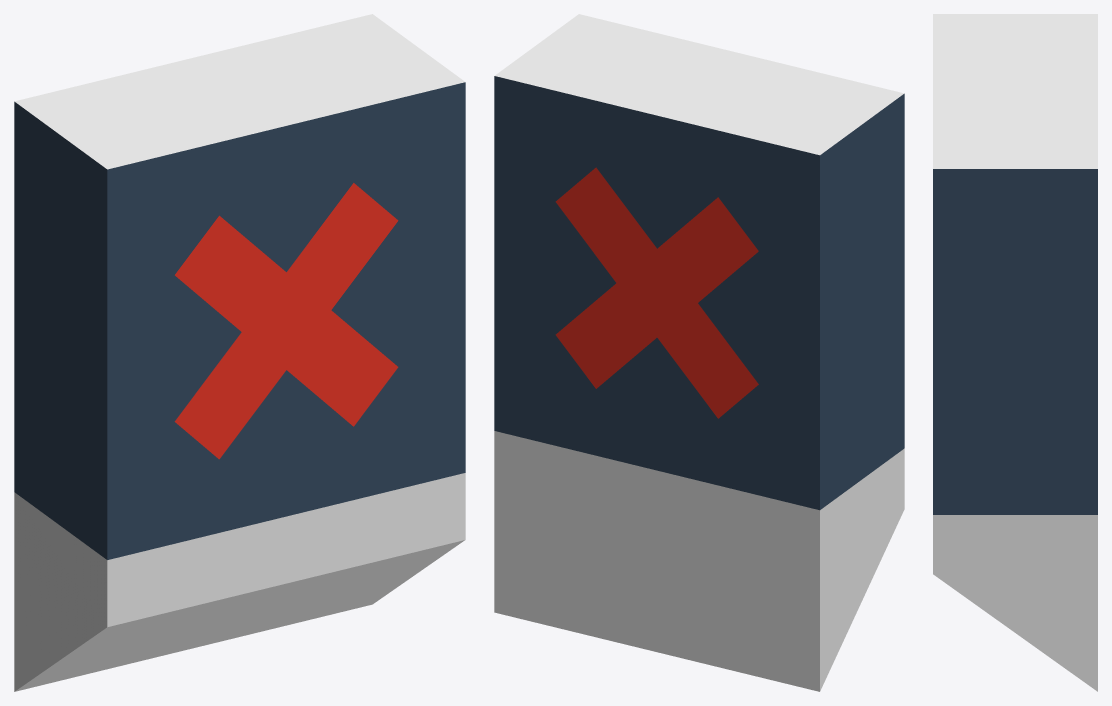
The model's file is EraserXSimple.fbx.
3 renders of one model, left to right at view 1: azimuth 30°, elevation 25°; view 2: azimuth 150°, elevation 25°; view 3: azimuth 270°, elevation 25°, orthographic. The views are drawn at different scales.
Parts seen in each view (by area): view 1: Group1; view 2: Group1; view 3: Group1.
Part boxes in pixels (x1,y1,x2,y2): Group1: (14,14,465,691); Group1: (494,14,904,691); Group1: (933,14,1097,691).
Bounding box in the file's own units: 0.724 × 1.14 × 0.3258.
